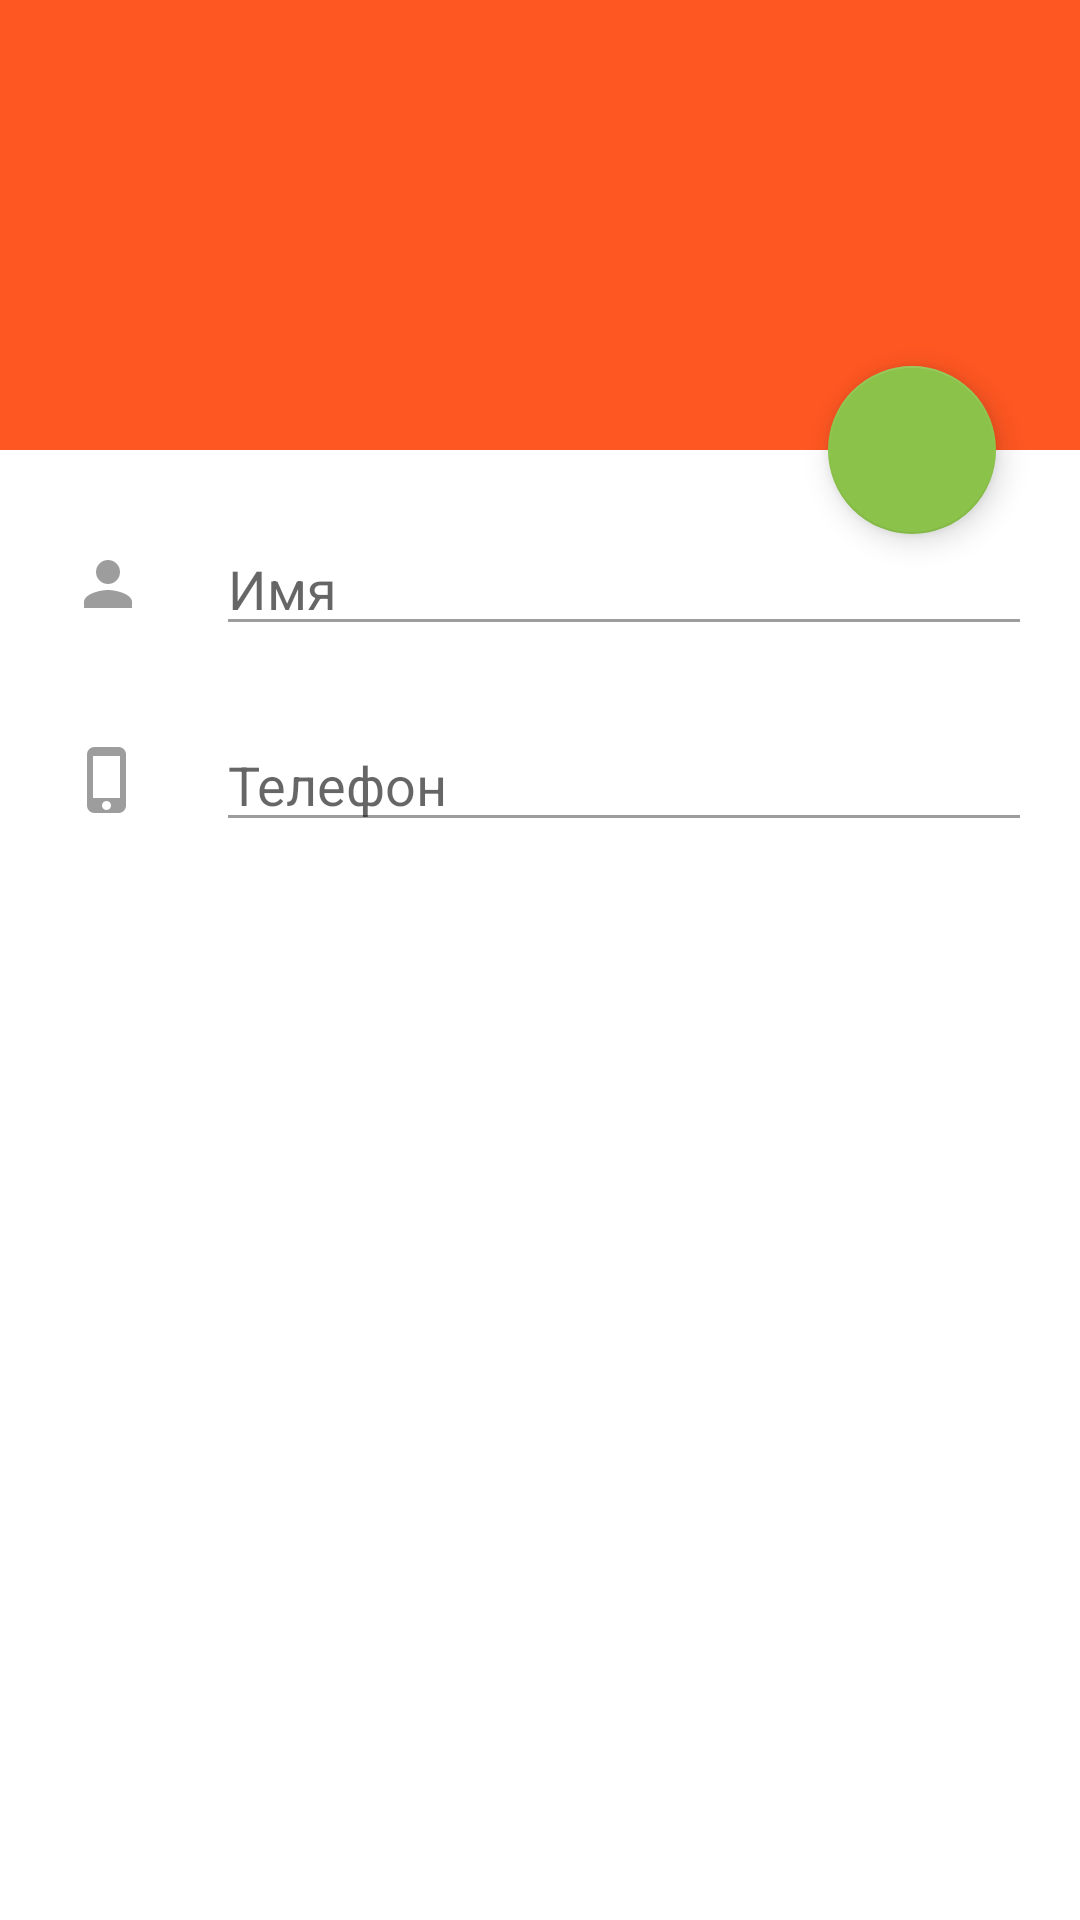

Named icons in this screenshot (1080 × 1920) and their bounding boxes, (x1, y1, x2, y2):
person: (84, 560, 132, 608)
phone iphone: (87, 747, 126, 813)
